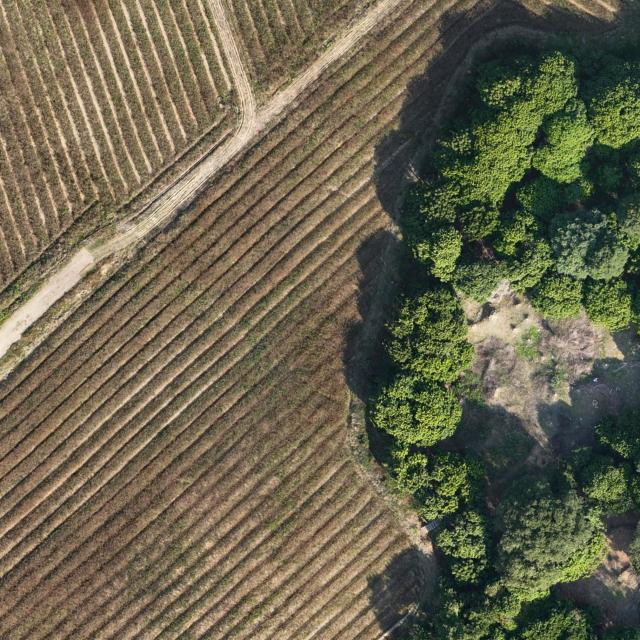Tree: (498, 486, 610, 603), (433, 109, 544, 204), (381, 283, 476, 378), (369, 374, 464, 447), (475, 49, 579, 115), (548, 205, 632, 282), (580, 52, 640, 150), (530, 97, 597, 184), (433, 507, 497, 585), (576, 453, 636, 514), (408, 223, 464, 280), (507, 237, 555, 296), (582, 278, 635, 329), (493, 208, 546, 255), (530, 274, 583, 320), (451, 260, 506, 302), (459, 206, 503, 242), (617, 189, 640, 242)
